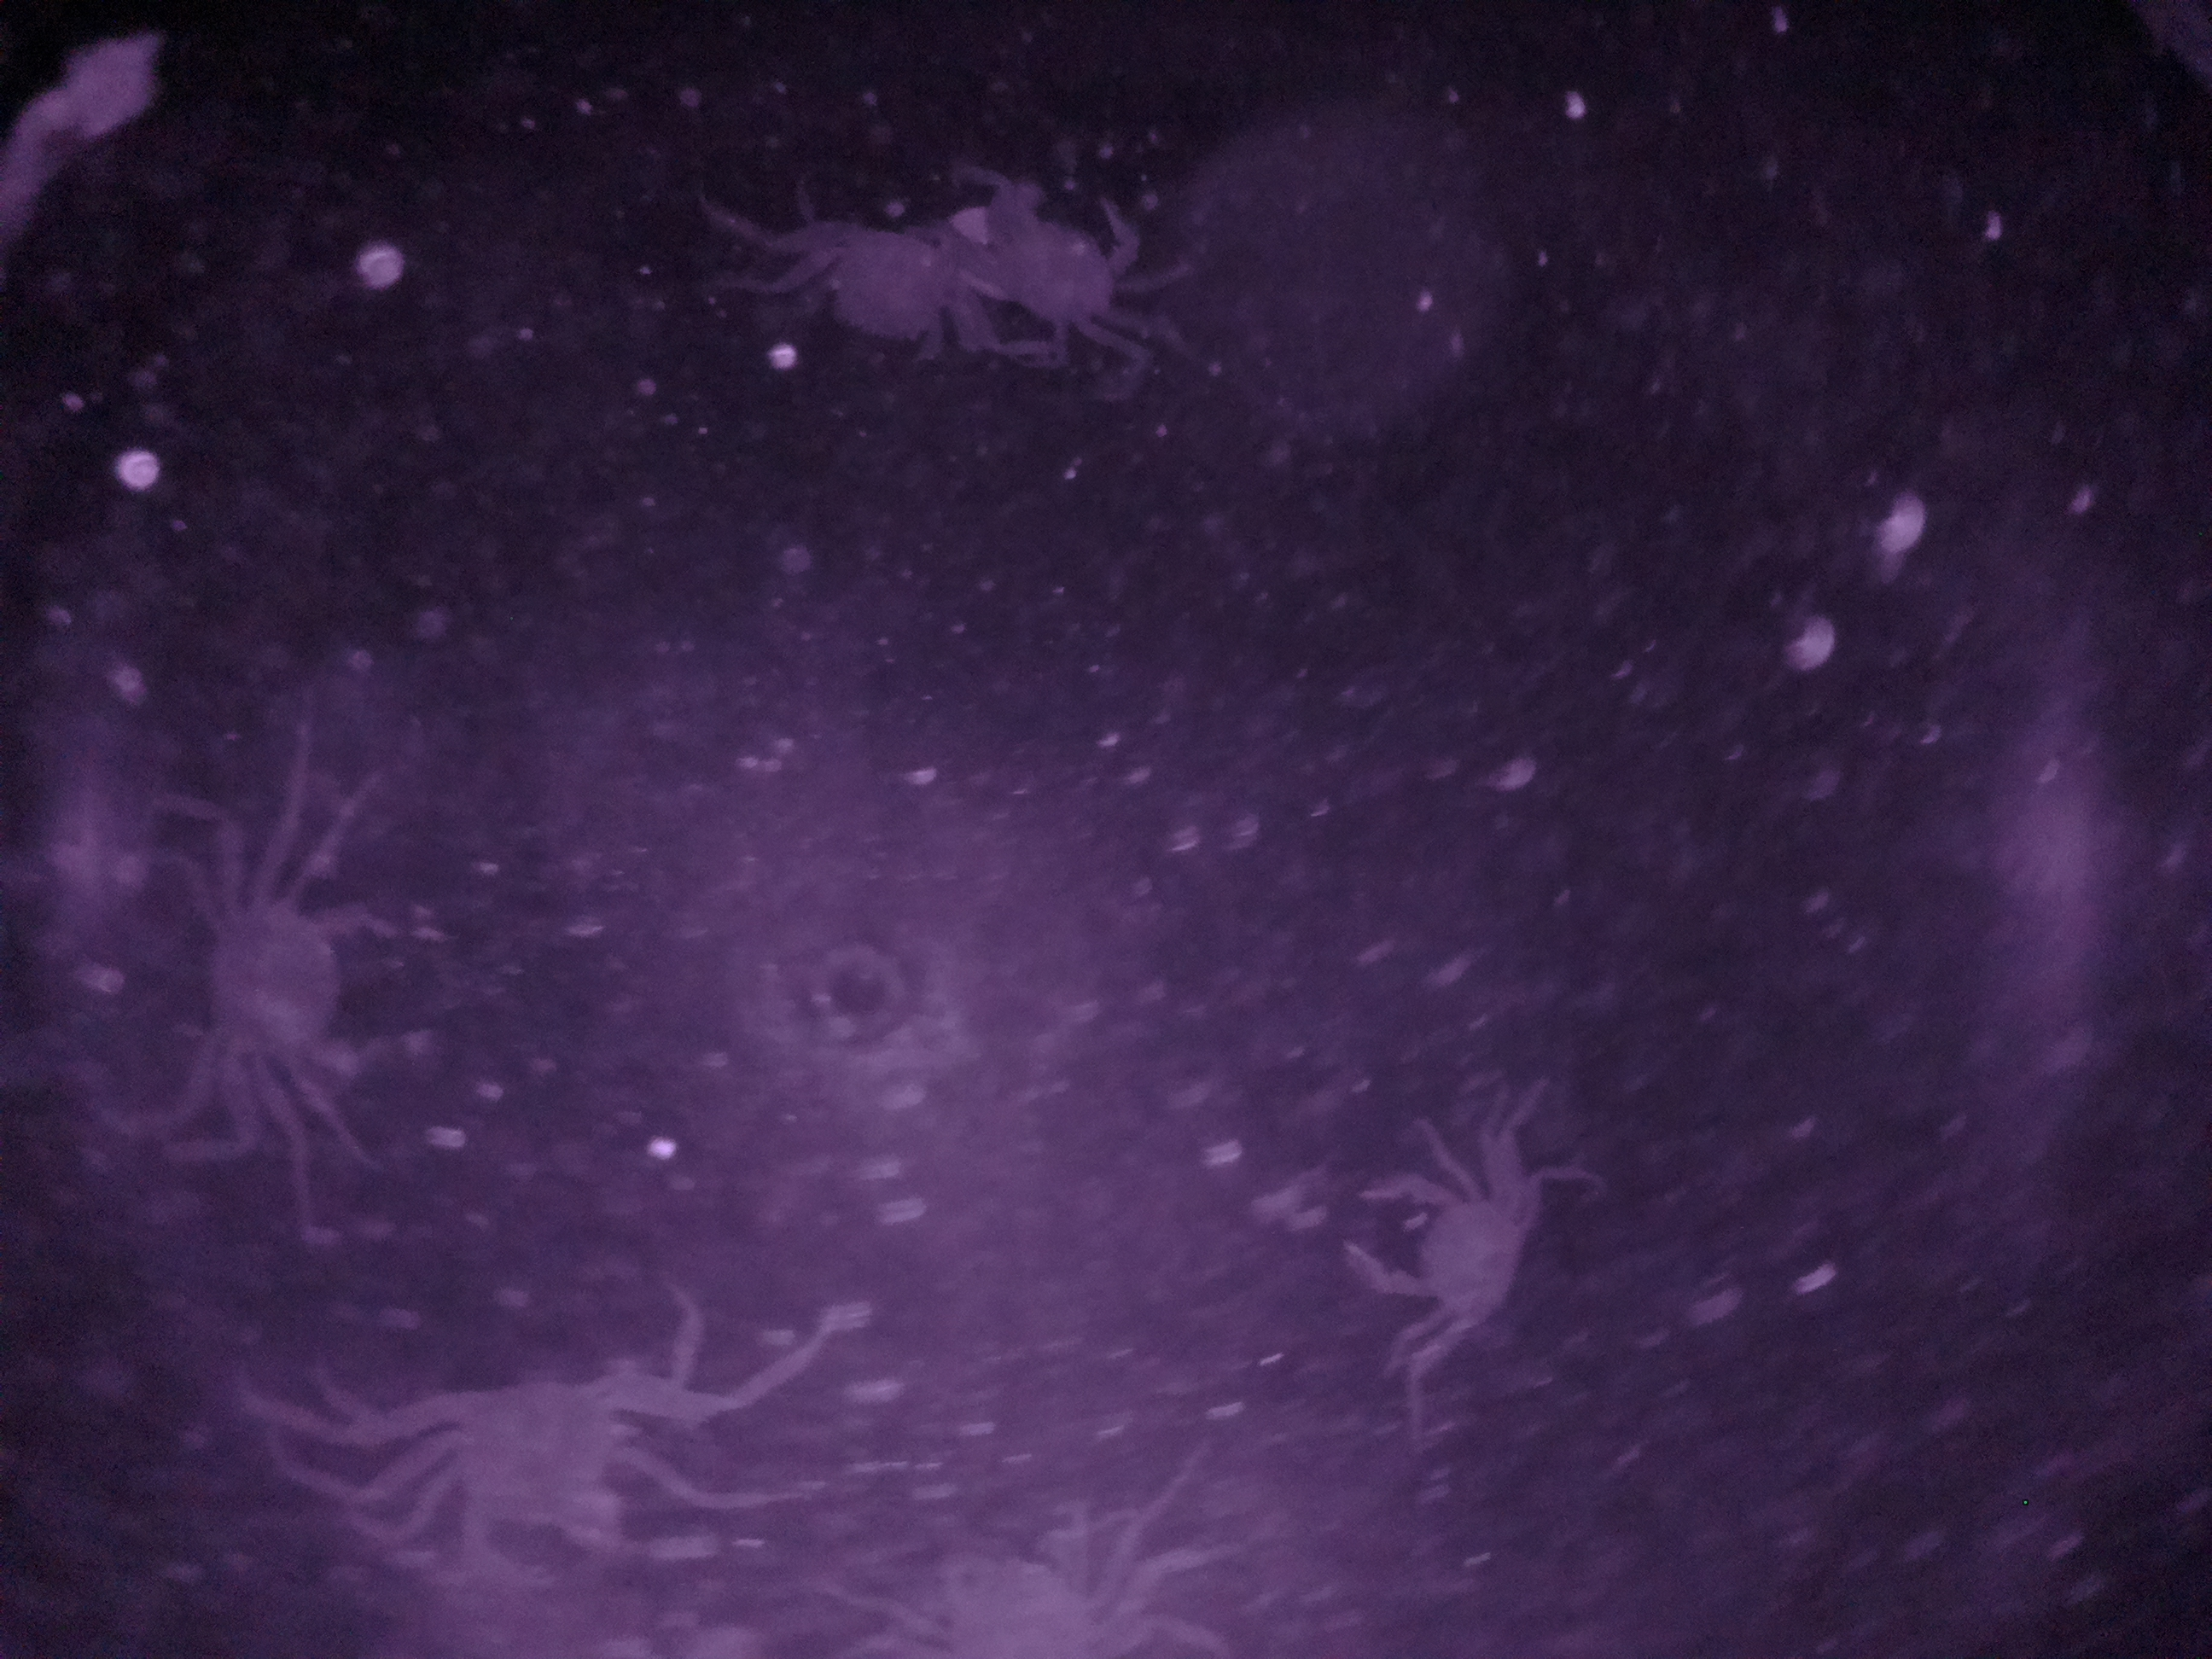Crab: (153, 863, 475, 1131), (1315, 1148, 1573, 1366)
